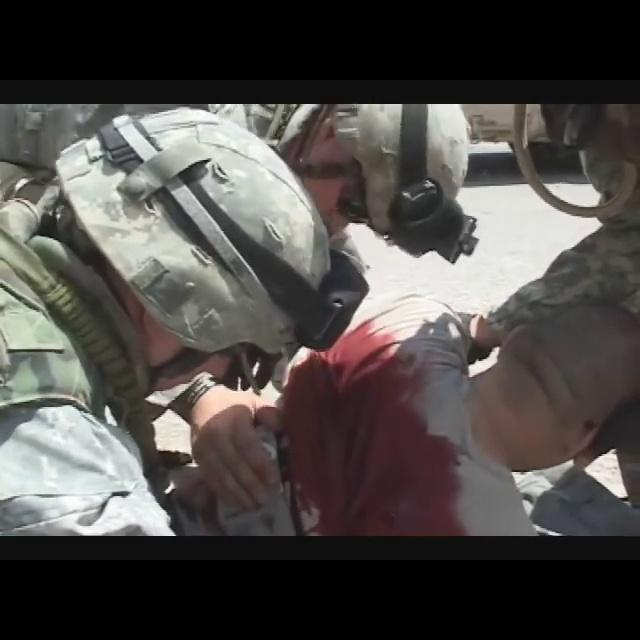blood: (285, 324, 465, 536)
